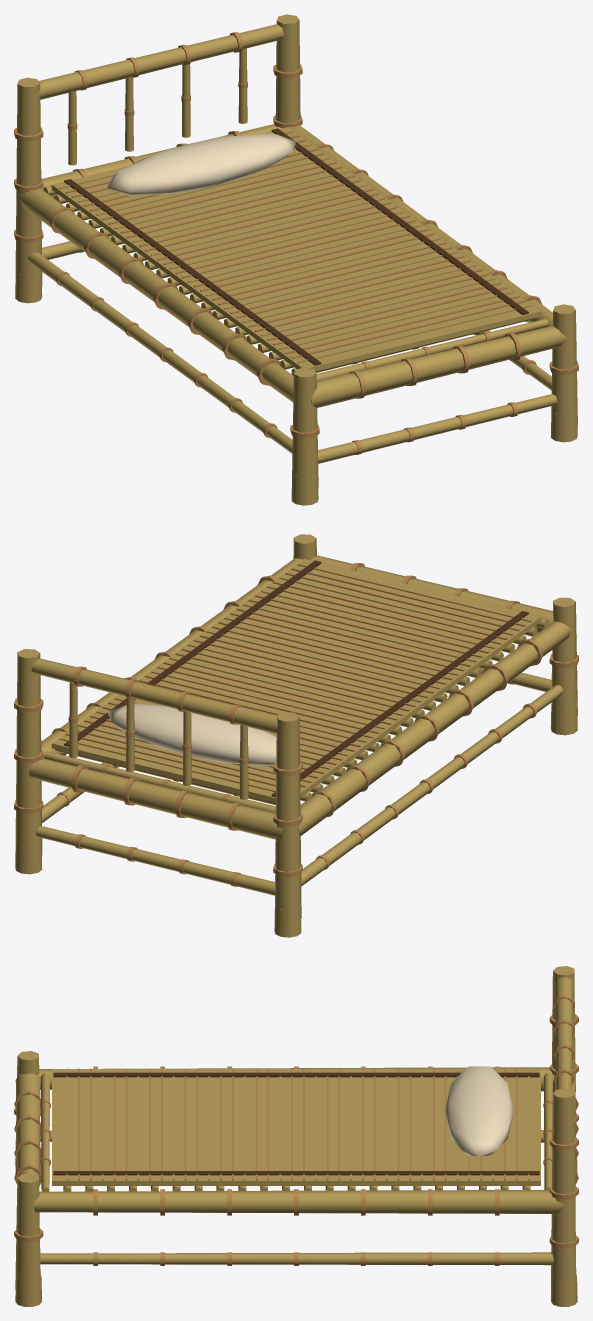
File: LV_GIUONG_TRE_01.glb
3 renders of one model, top to bottom at view 1: azimuth 30°, elevation 25°; view 2: azimuth 150°, elevation 25°; view 3: azimuth 270°, elevation 25°, orthographic. The views are drawn at different scales.
Parts seen in each view (by area): view 1: LV_GIUONG_TRE_01-surface-b59b56, LV_GIUONG_TRE_01-surface-b68850, LV_GIUONG_TRE_01-surface-ead9b8, LV_GIUONG_TRE_01-surface-50351f; view 2: LV_GIUONG_TRE_01-surface-b59b56, LV_GIUONG_TRE_01-surface-b68850, LV_GIUONG_TRE_01-surface-ead9b8, LV_GIUONG_TRE_01-surface-50351f; view 3: LV_GIUONG_TRE_01-surface-b59b56, LV_GIUONG_TRE_01-surface-b68850, LV_GIUONG_TRE_01-surface-50351f, LV_GIUONG_TRE_01-surface-ead9b8.
Part boxes in pixels (box(x1,y1,x2,y2)): LV_GIUONG_TRE_01-surface-b59b56: box(15, 14, 577, 505); LV_GIUONG_TRE_01-surface-b68850: box(14, 32, 578, 454); LV_GIUONG_TRE_01-surface-ead9b8: box(107, 133, 296, 196); LV_GIUONG_TRE_01-surface-50351f: box(64, 128, 528, 365); LV_GIUONG_TRE_01-surface-b59b56: box(15, 534, 577, 937); LV_GIUONG_TRE_01-surface-b68850: box(14, 563, 578, 886); LV_GIUONG_TRE_01-surface-ead9b8: box(107, 703, 276, 766); LV_GIUONG_TRE_01-surface-50351f: box(64, 560, 528, 796); LV_GIUONG_TRE_01-surface-b59b56: box(15, 966, 577, 1306); LV_GIUONG_TRE_01-surface-b68850: box(14, 995, 578, 1265); LV_GIUONG_TRE_01-surface-50351f: box(53, 1072, 539, 1175); LV_GIUONG_TRE_01-surface-ead9b8: box(444, 1066, 514, 1155).
Size of the model in its own units: 1.43 by 1.03 by 2.53.
